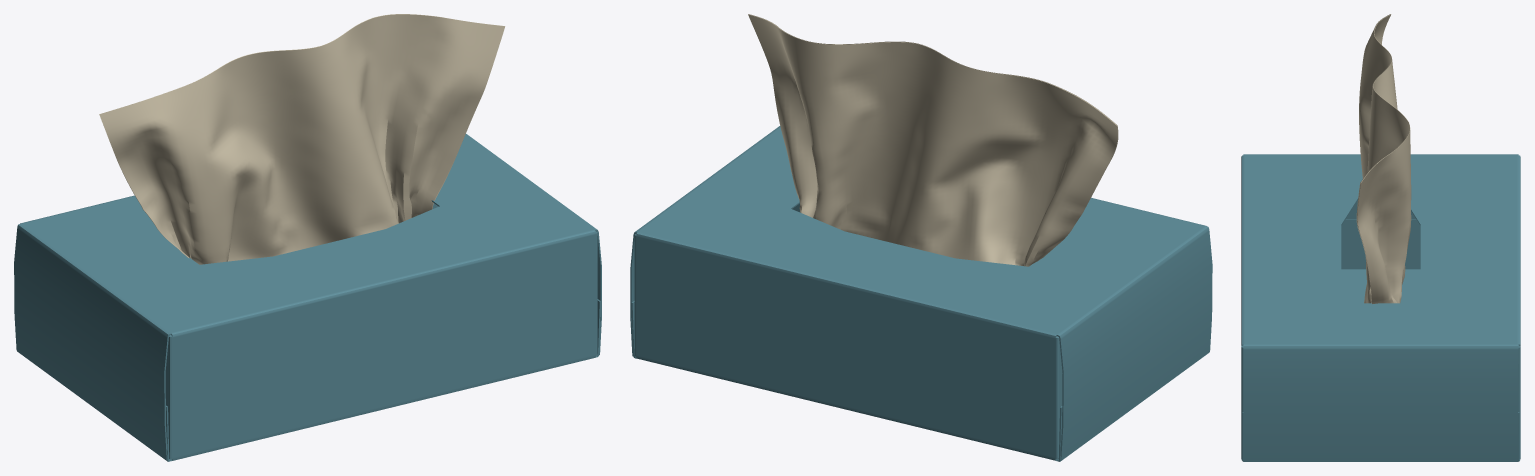
File: tissuebox3.fbx
3 renders of one model, left to right at view 1: azimuth 30°, elevation 25°; view 2: azimuth 150°, elevation 25°; view 3: azimuth 270°, elevation 25°, orthographic. The views are drawn at different scales.
Visible parts, largest first — view 1: 纸_2; view 2: 纸_2; view 3: 纸_2.
Part boxes in pixels (x1,y1,x2,y2): 纸_2: (14,14,601,461); 纸_2: (630,14,1212,461); 纸_2: (1241,14,1520,461).
Bounding box in the file's own units: 18.39 × 12.42 × 11.11.
